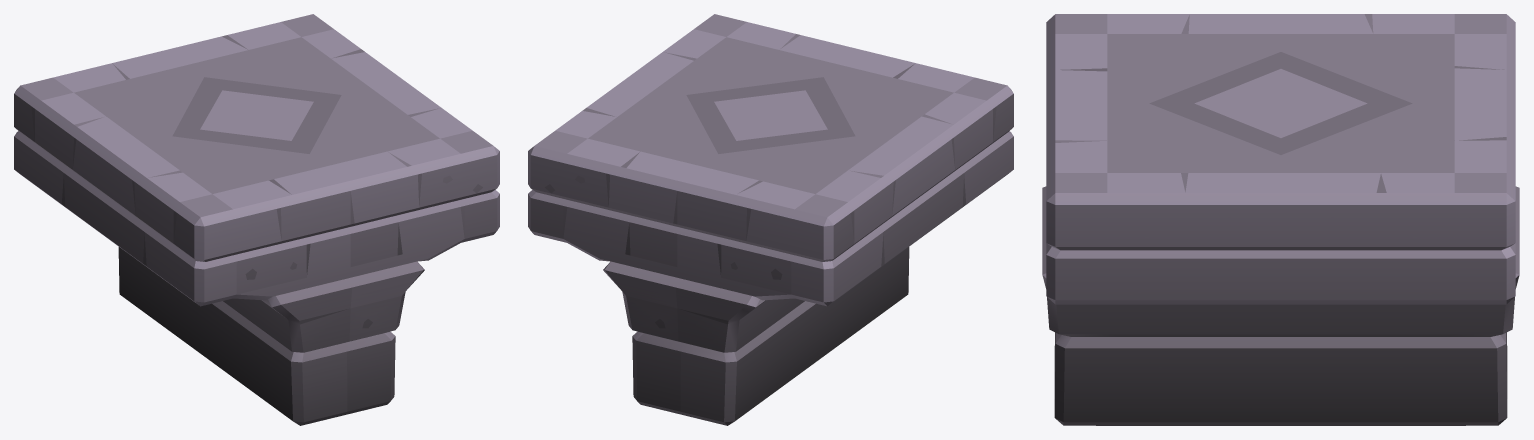
File: bridge_stone.glb
3 views of the same model, side by side, from view 1: azimuth 30°, elevation 25°; view 2: azimuth 150°, elevation 25°; view 3: azimuth 270°, elevation 25° (orthographic). The views are drawn at different scales.
Parts seen in each view (by area): view 1: bridge_stone; view 2: bridge_stone; view 3: bridge_stone.
Part boxes in pixels (x1=…): bridge_stone: x1=14, y1=14, x2=499, y2=425; bridge_stone: x1=528, y1=14, x2=1013, y2=425; bridge_stone: x1=1042, y1=14, x2=1519, y2=425.
Bounding box in the file's own units: 4.93 × 3.64 × 5.33.
Materials: 1 (1 with a texture image).
